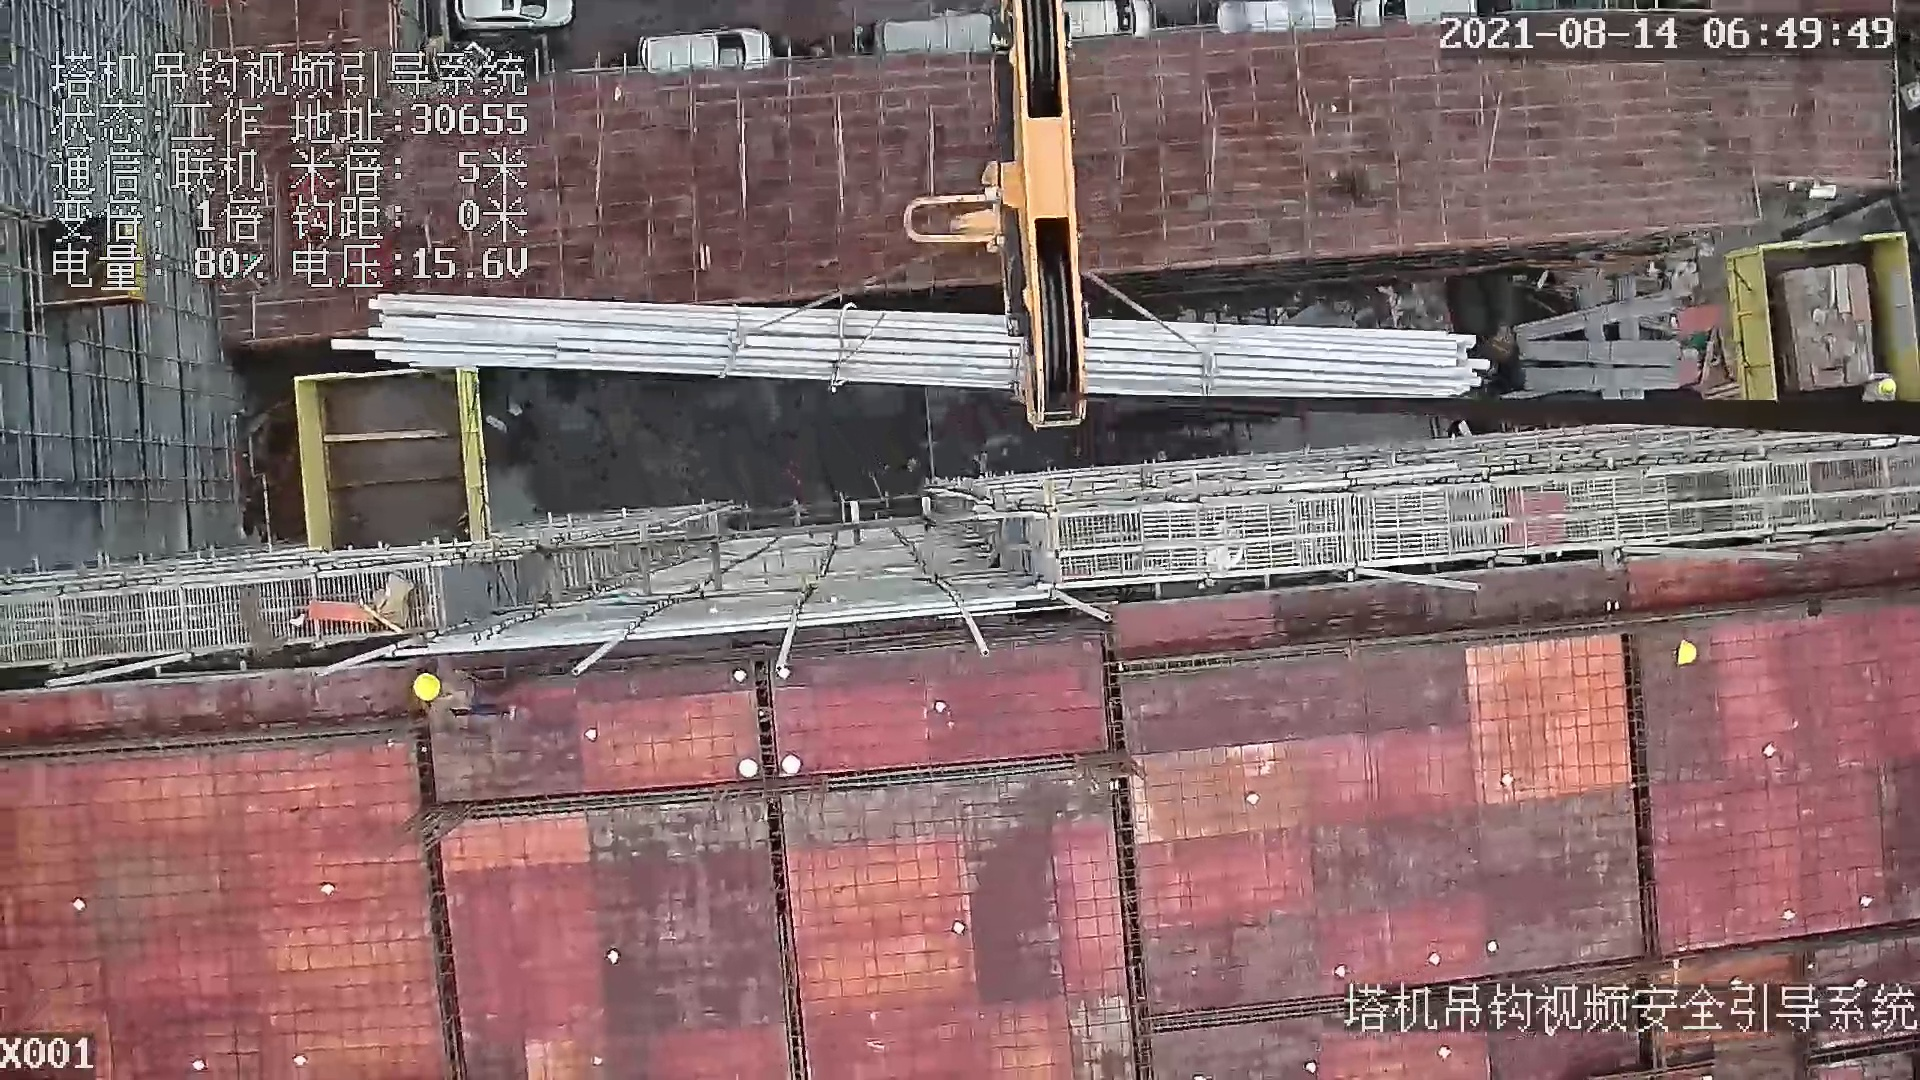helmet: (1665, 629, 1716, 668), (411, 665, 451, 710), (1881, 377, 1898, 395)
hook: (905, 1, 1087, 432)
person: (408, 667, 533, 737), (1853, 360, 1899, 408)
